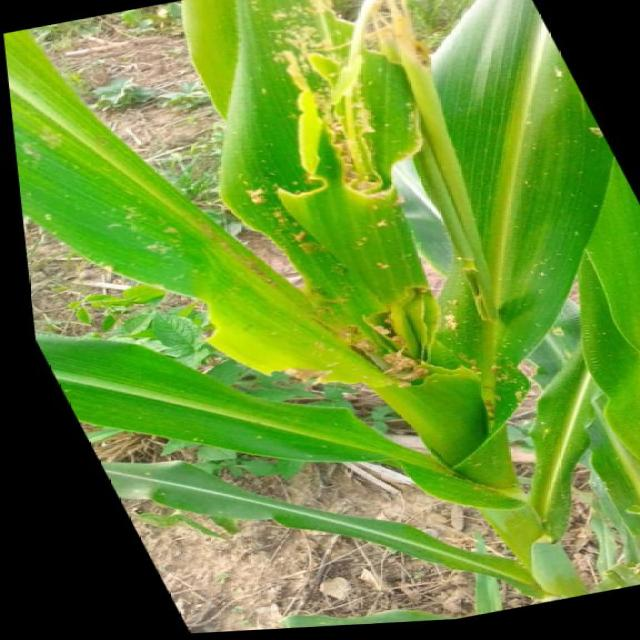fall-armyworm-egg: (80, 182, 234, 284), (218, 171, 329, 282), (434, 342, 550, 427), (240, 0, 361, 79), (284, 95, 376, 195), (307, 317, 429, 388), (411, 288, 497, 340)
fall-armyworm-larval-damage: (234, 37, 403, 172), (239, 129, 429, 229), (229, 331, 425, 427), (316, 0, 442, 76), (134, 299, 253, 374), (378, 348, 483, 403), (259, 0, 343, 12), (638, 372, 639, 443)
